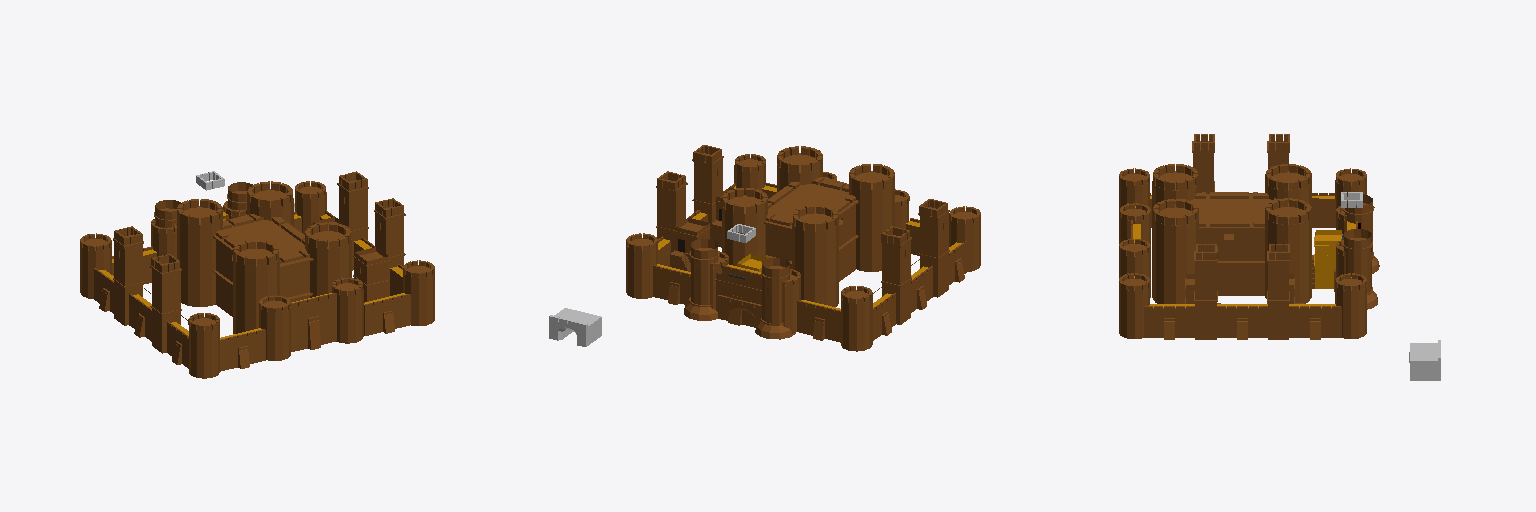
The model's file is castle2.obj.
The picture shows the model from 3 angles: view 1: azimuth 30°, elevation 25°; view 2: azimuth 150°, elevation 25°; view 3: azimuth 270°, elevation 25°; orthographic projection.
Parts seen in each view (by area): view 1: Cube.017, Cylinder.001, Cylinder; view 2: Cube.017, Cylinder.001, Cylinder, Cube.016, Cube.010_Cube.003; view 3: Cube.017, Cylinder, Cube.001_Cube.002, Cube.016, Cylinder.001.
Boxes of the visible parts, x1,y1,x2,y2 form: Cube.017: [80, 171, 434, 378]; Cylinder.001: [154, 200, 180, 228]; Cylinder: [227, 182, 252, 211]; Cube.017: [626, 145, 980, 351]; Cylinder.001: [755, 258, 795, 339]; Cylinder: [684, 239, 718, 320]; Cube.016: [549, 308, 601, 346]; Cube.010_Cube.003: [715, 273, 761, 327]; Cube.017: [1119, 134, 1366, 339]; Cylinder: [1342, 229, 1377, 309]; Cube.001_Cube.002: [1312, 230, 1342, 288]; Cube.016: [1409, 340, 1440, 380]; Cylinder.001: [1343, 194, 1379, 273].
Size of the model in its own units: 60.13 by 23.81 by 60.83.